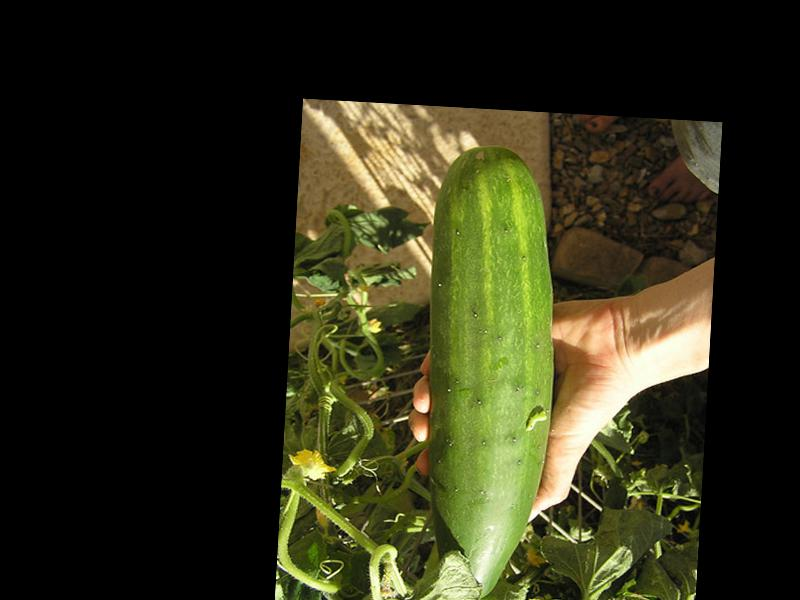Cucumber: (411, 142, 565, 600)
